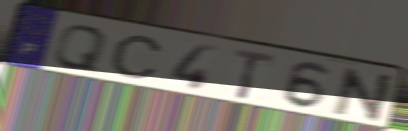4: (168, 41, 215, 93)
6: (279, 60, 332, 111)
C: (108, 34, 166, 80)
N: (330, 66, 397, 124)
Q: (49, 24, 110, 74)
T: (231, 47, 278, 103)
